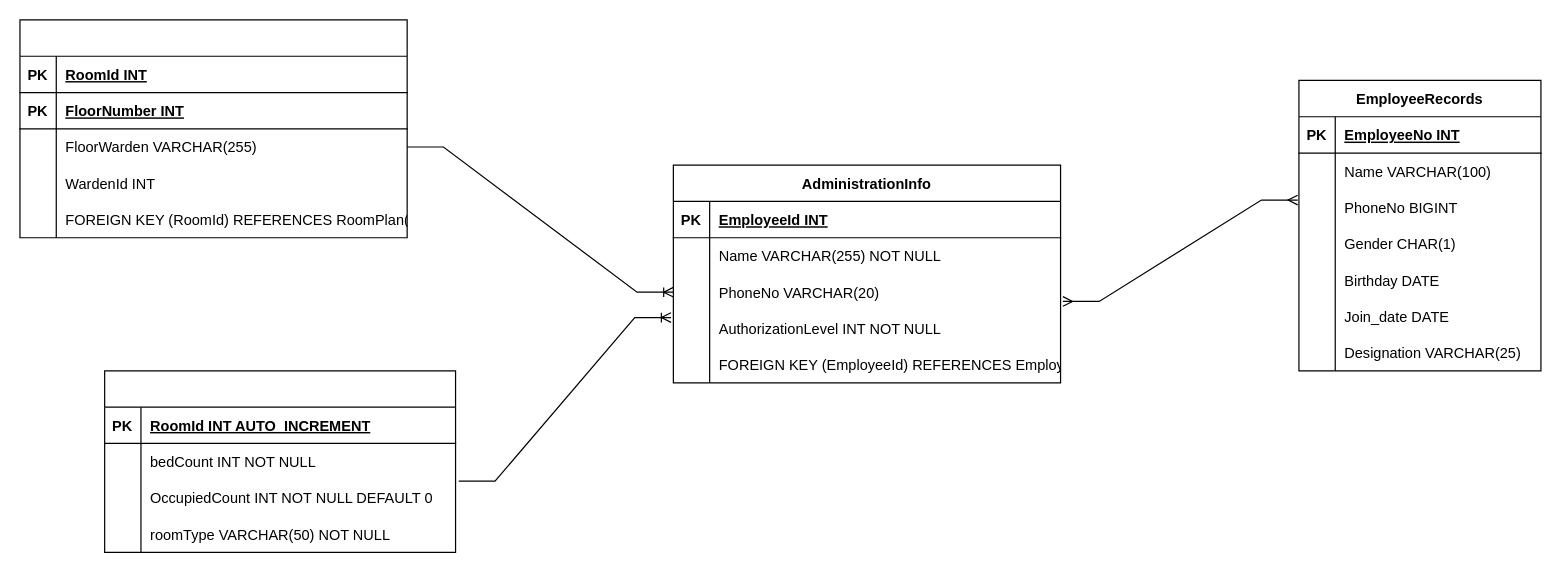
The diagram is 1561 pixels wide and 572 high, and some of its shapes have lost their labels. The box of each missing label's shape, as (x1, y1, x2, y2) in pixels:
FloorPlan: (19, 19, 407, 238)
RoomPlan: (103, 370, 456, 552)
